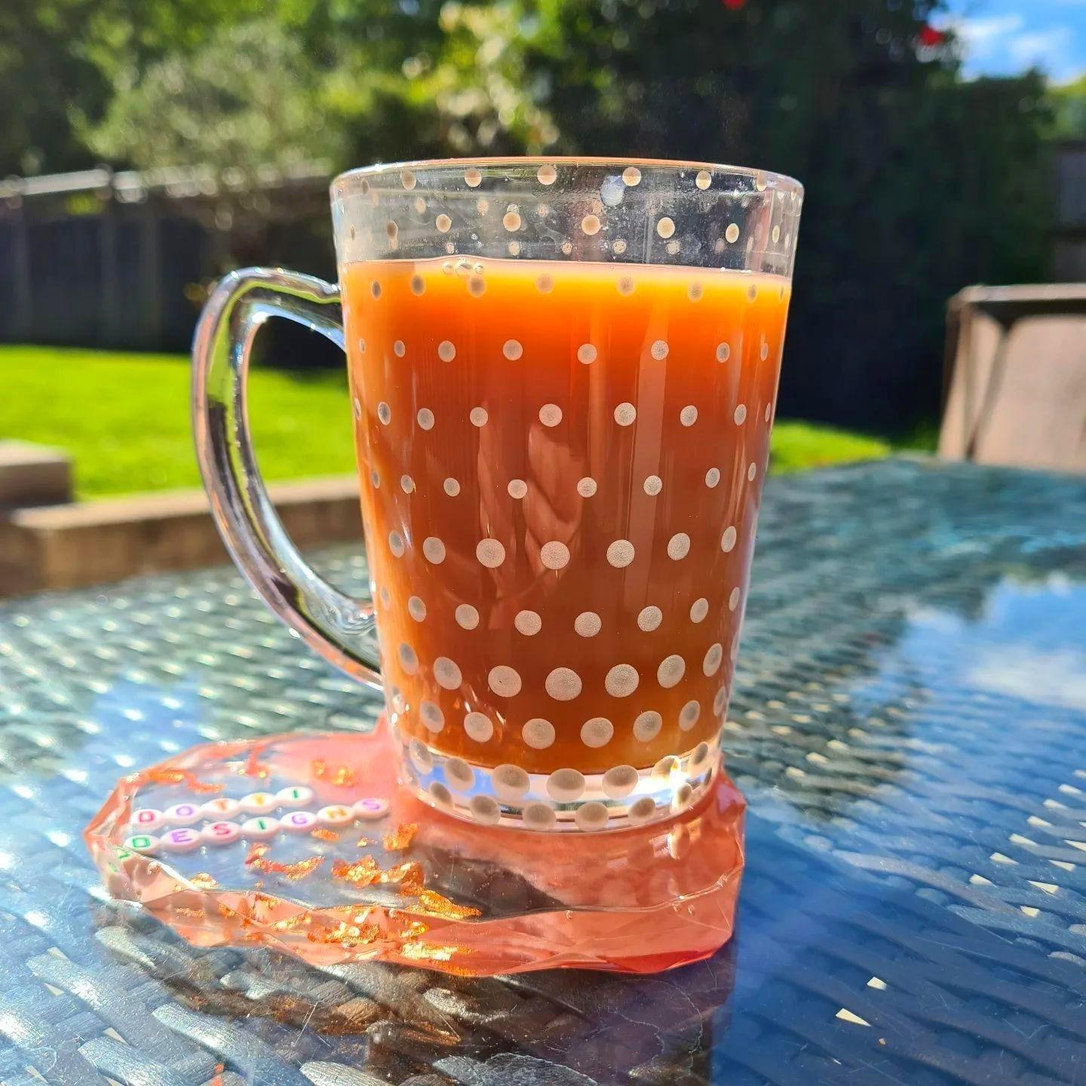glass-mug: (170, 144, 818, 854)
